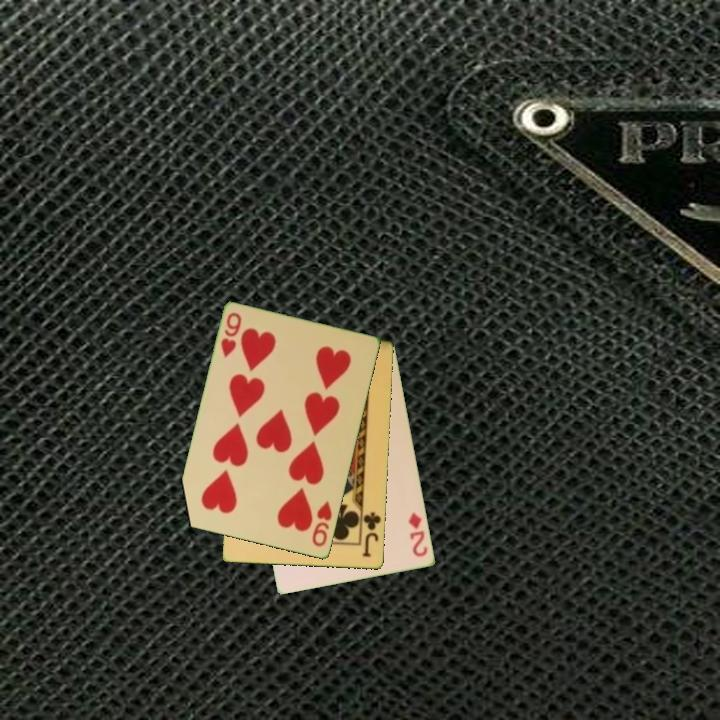2d: (405, 509, 431, 560)
9h: (217, 309, 245, 360), (309, 498, 335, 550)
Jc: (359, 506, 384, 560)
